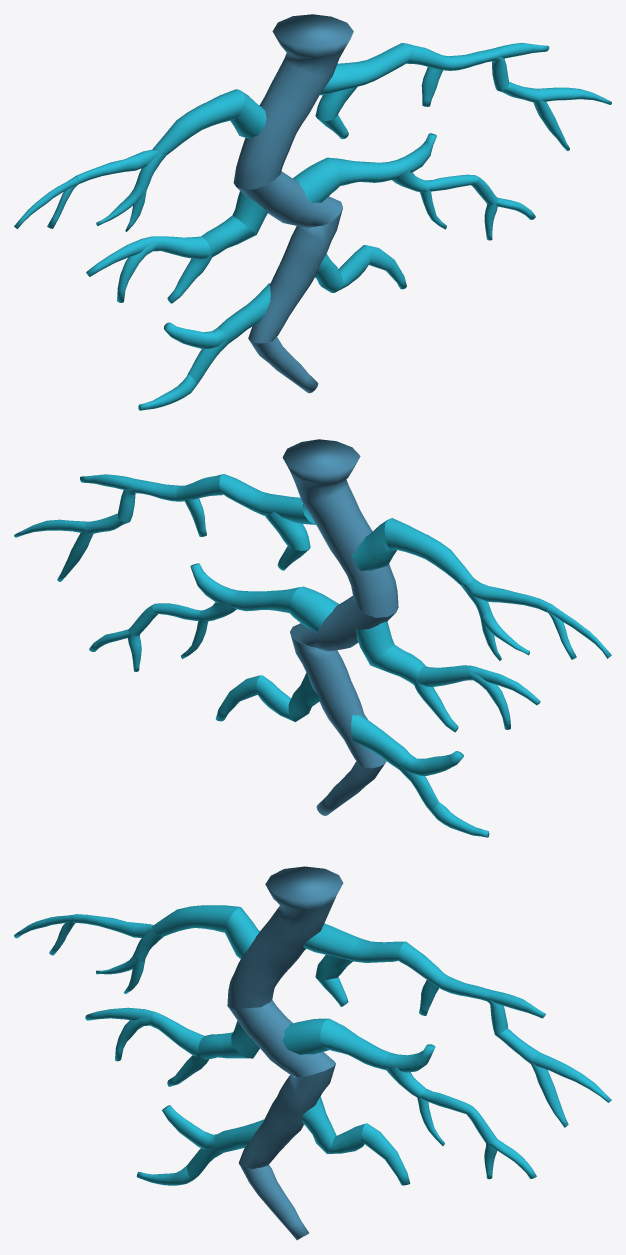
Rendered from Roots_Final.fbx.
3 renders of one model, top to bottom at view 1: azimuth 30°, elevation 25°; view 2: azimuth 150°, elevation 25°; view 3: azimuth 330°, elevation 25°, orthographic.
Parts seen in each view (by area): view 1: MainRoot.001, MainRoot.003, MainRoot.002, RootLV1_L.002, MainRoot.004, RootLV2_R.002, RootLV2_R.004, RootLV3_L.002, RootLV2_L.005, RootLV1_R.006, RootLV2_L, RootLV1_L.007 (+22 smaller); view 2: MainRoot.001, MainRoot.003, MainRoot.002, RootLV1_L.002, RootLV3_L.002, RootLV2_R.002, MainRoot.004, RootLV1_L.004, RootLV2_R.004, RootLV1_L.007, RootLV2_L.005, RootLV1_R.004 (+21 smaller); view 3: MainRoot.001, MainRoot.003, MainRoot.002, MainRoot.004, RootLV1_L.002, RootLV2_R.004, RootLV2_R.002, RootLV1_R.004, RootLV3_R.002, RootLV1_L.004, RootLV2_L, RootLV3_R (+23 smaller).
Boxes of the visible parts, box(x1,y1,x2,y2) form: MainRoot.001: box(233, 14, 353, 189); MainRoot.003: box(248, 208, 342, 343); MainRoot.002: box(236, 171, 342, 227); RootLV1_L.002: box(154, 89, 244, 155); MainRoot.004: box(250, 337, 318, 393); RootLV2_R.002: box(293, 157, 340, 202); RootLV2_R.004: box(328, 157, 397, 185); RootLV3_L.002: box(217, 283, 270, 343); RootLV2_L.005: box(201, 215, 256, 256); RootLV1_R.006: box(358, 43, 410, 83); RootLV2_L: box(153, 236, 210, 259); RootLV1_L.007: box(76, 149, 166, 183); MainRoot.001: box(282, 439, 398, 617); MainRoot.003: box(291, 636, 386, 768); MainRoot.002: box(290, 596, 395, 651); RootLV1_L.002: box(384, 518, 472, 585); RootLV3_L.002: box(351, 715, 410, 769); RootLV2_R.002: box(288, 586, 338, 633); MainRoot.004: box(316, 761, 385, 815); RootLV1_L.004: box(352, 520, 396, 570); RootLV2_R.004: box(233, 587, 299, 612); RootLV1_L.007: box(461, 578, 551, 612); RootLV2_L.005: box(370, 644, 425, 684); RootLV1_R.004: box(260, 494, 315, 524); MainRoot.001: box(227, 866, 343, 1008); MainRoot.003: box(239, 1064, 335, 1168); MainRoot.002: box(228, 1000, 335, 1076); MainRoot.004: box(240, 1165, 308, 1240); RootLV1_L.002: box(153, 905, 240, 936); RootLV2_R.004: box(319, 1019, 390, 1069); RootLV2_R.002: box(282, 1018, 329, 1054); RootLV1_R.004: box(303, 923, 362, 960); RootLV3_R.002: box(361, 1123, 410, 1185); RootLV1_L.004: box(225, 907, 259, 958); RootLV2_L: box(149, 1012, 204, 1056); RootLV3_R: box(301, 1096, 336, 1153).
Size of the model in its own units: 2410 by 1383 by 282.
